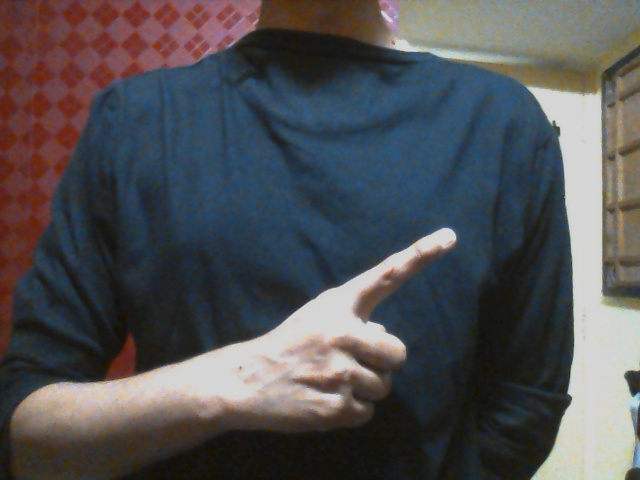I: (273, 226, 459, 435)
